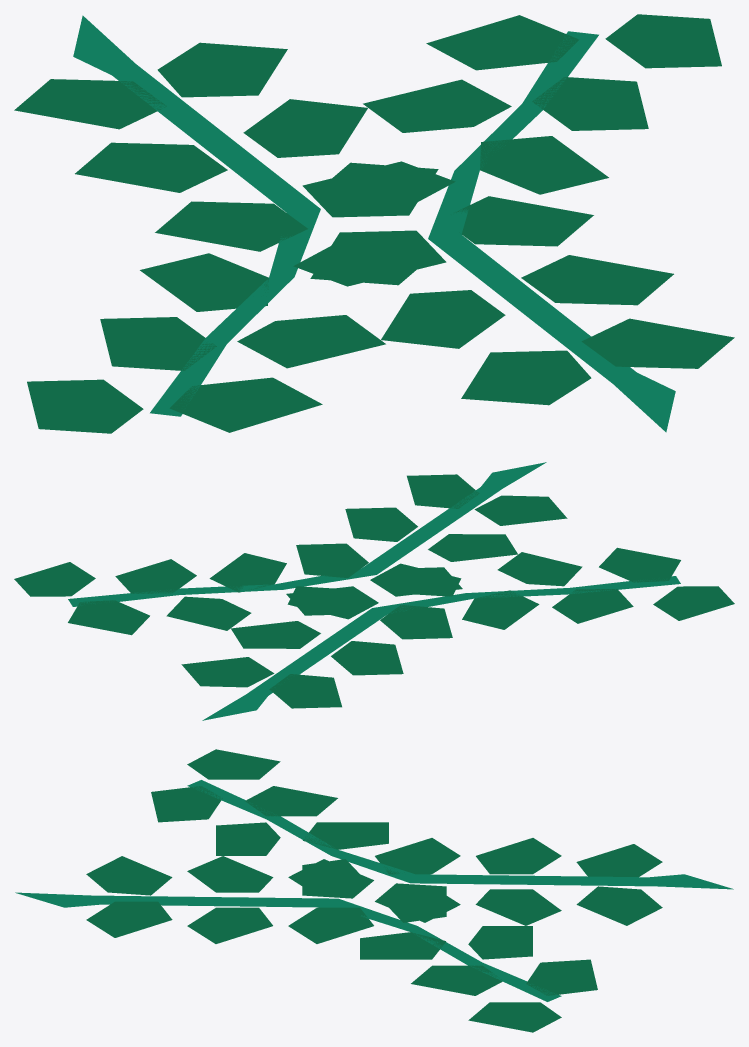
File: inv_seaweed.obj
The picture shows the model from 3 angles, top to bottom: view 1: azimuth 30°, elevation 25°; view 2: azimuth 150°, elevation 25°; view 3: azimuth 270°, elevation 25°; orthographic projection. The views are drawn at different scales.
Bounding box in the file's own units: 0.7266 × 0 × 0.7812.
